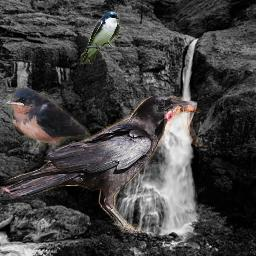Crow: (0, 90, 213, 233)
Swallow: (4, 87, 92, 155), (80, 11, 120, 64)
